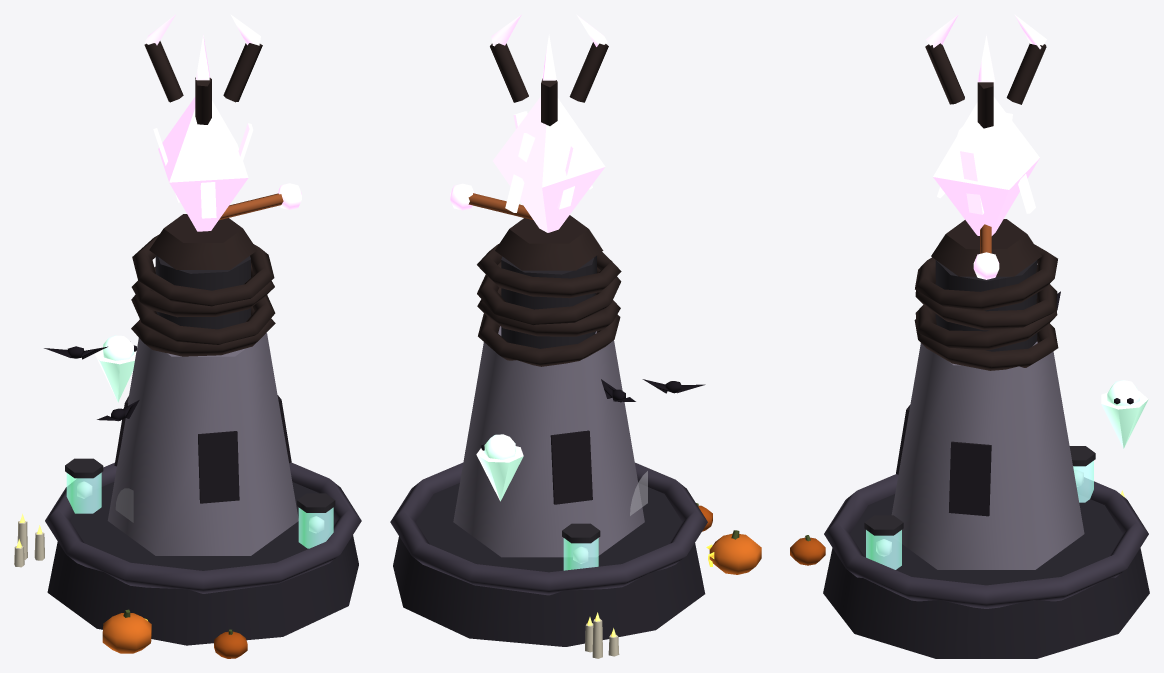
Rendered from tower_chain_thunder.glb.
3 views of the same model, side by side, from view 1: azimuth 30°, elevation 25°; view 2: azimuth 150°, elevation 25°; view 3: azimuth 270°, elevation 25° (orthographic). The views are drawn at different scales.
Visible parts, largest first — view 1: shaft, base, base_rim, crystal_core, cap, coil_3, coil_core, scorch_1, coil_1, coil_2, coil_0, deco_hw_jack_body (+14 smaller); view 2: shaft, base, base_rim, crystal_core, cap, coil_3, coil_core, scorch_2, coil_0, coil_2, coil_1, deco_hw_jack_body (+11 smaller); view 3: shaft, base, base_rim, crystal_core, cap, coil_3, scorch_0, coil_0, coil_2, coil_1, coil_core, deco_hw_ghost_sheet (+11 smaller).
Boxes of the visible parts, box(x1,y1,x2,y2) form: shaft: box(107, 333, 298, 555); base: box(47, 482, 358, 645); base_rim: box(45, 462, 361, 593); crystal_core: box(158, 97, 248, 231); cap: box(149, 214, 257, 269); coil_3: box(132, 234, 274, 306); coil_core: box(155, 255, 250, 329); scorch_1: box(198, 431, 239, 503); coil_1: box(131, 295, 275, 344); coil_2: box(131, 263, 274, 317); coil_0: box(131, 306, 275, 356); deco_hw_jack_body: box(102, 613, 151, 653); shaft: box(453, 326, 644, 557); base: box(393, 483, 705, 646); base_rim: box(390, 462, 707, 595); crystal_core: box(493, 96, 605, 232); cap: box(495, 215, 603, 270); coil_3: box(477, 244, 621, 298); coil_core: box(501, 255, 596, 348); scorch_2: box(550, 430, 592, 504); coil_0: box(478, 313, 620, 366); coil_2: box(477, 262, 621, 325); coil_1: box(477, 287, 620, 336); deco_hw_jack_body: box(709, 533, 761, 574); shaft: box(891, 341, 1084, 569); base: box(823, 494, 1149, 658); base_rim: box(824, 474, 1148, 608); crystal_core: box(933, 97, 1039, 235); cap: box(931, 219, 1041, 276); coil_3: box(915, 244, 1057, 310); scorch_0: box(949, 441, 991, 516); coil_0: box(914, 319, 1058, 370); coil_2: box(915, 284, 1057, 330); coil_1: box(915, 305, 1057, 350); coil_core: box(935, 260, 1037, 351); deco_hw_ghost_sheet: box(1101, 391, 1148, 448).
Bounding box in the file's own units: 0.4215 × 0.773 × 0.4404.
